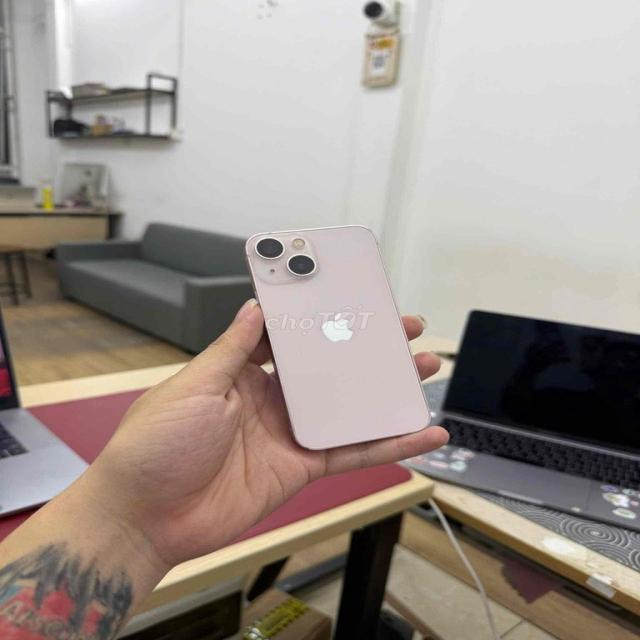gen_12_13: (240, 227, 433, 456)
